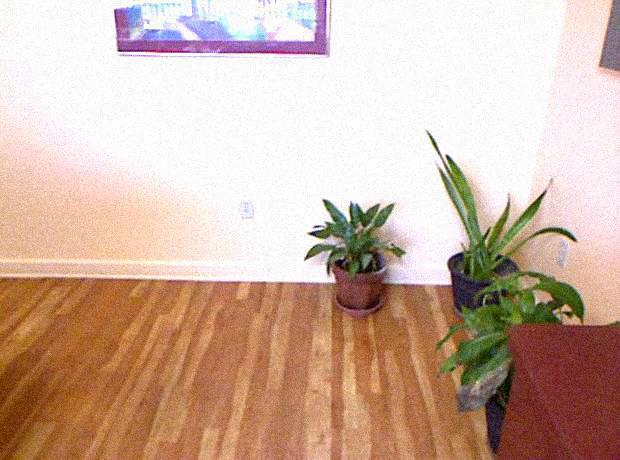Matera: (425, 127, 580, 322), (431, 265, 587, 453), (305, 192, 410, 324)
